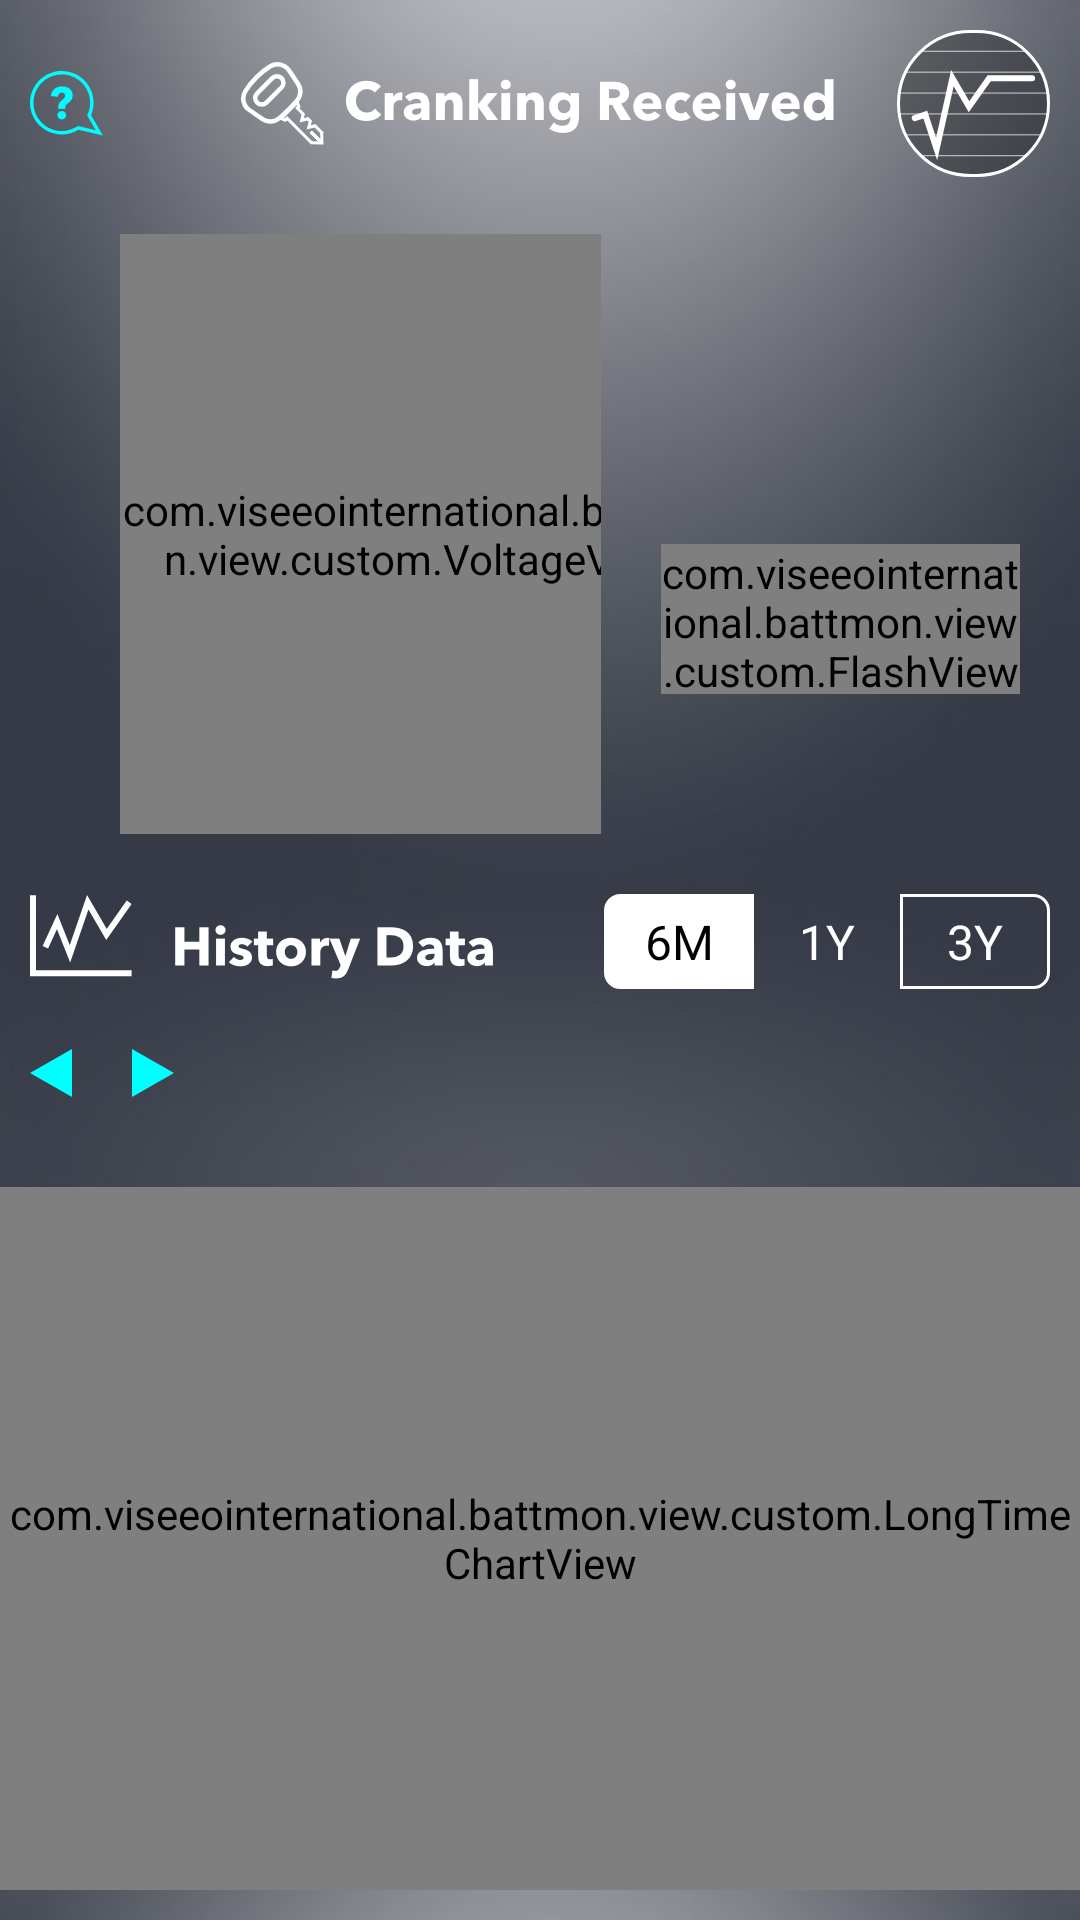

Icon click points for this 1080 × 1920 phone screenshot, format [x,y]:
graph: [973,103]
left: [51,1073]
right: [153,1073]
